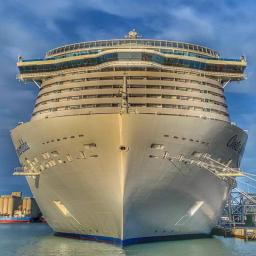cruises: (6, 30, 251, 247)
